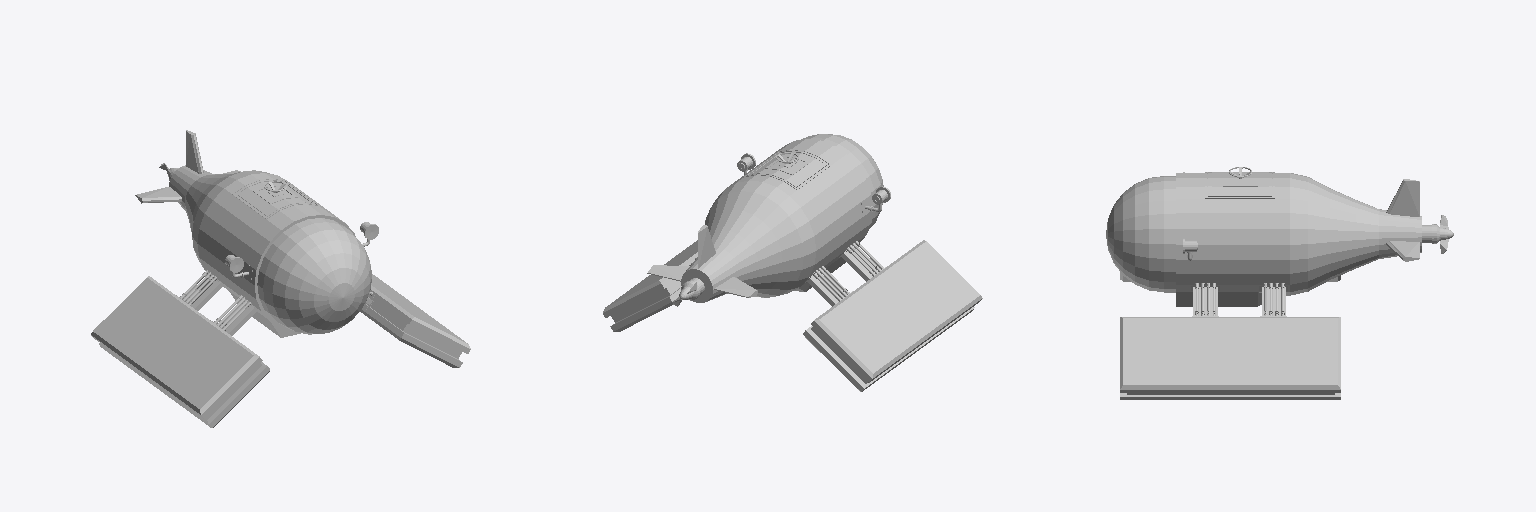
Rendered from submarine.obj.
3 views of the same model, side by side, from view 1: azimuth 30°, elevation 25°; view 2: azimuth 150°, elevation 25°; view 3: azimuth 270°, elevation 25° (orthographic).
Parts seen in each view (by area): view 1: submarine.001; view 2: submarine.001; view 3: submarine.001.
Part boxes in pixels (x1,y1,x2,y2): submarine.001: (91, 130, 470, 427); submarine.001: (603, 134, 982, 391); submarine.001: (1106, 167, 1453, 399).
Bounding box in the file's own units: 5.33 × 3.18 × 5.95.